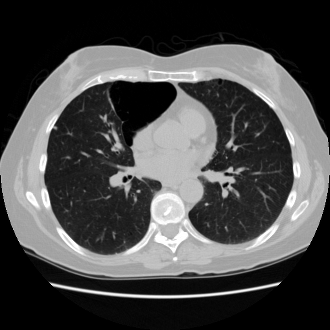nodule: (53, 126, 57, 130)
